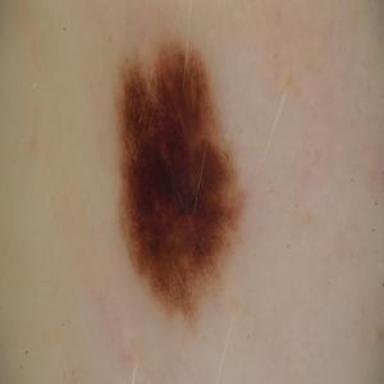Melanoma: (114, 43, 241, 324)
